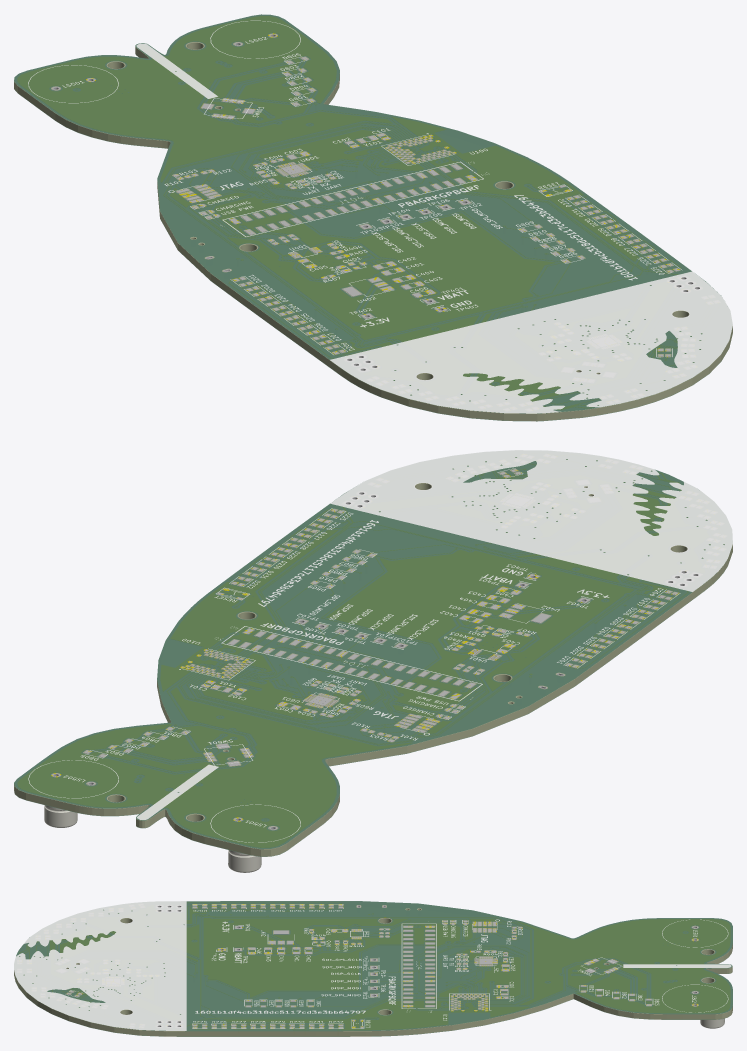
File: team-ides-dc27-da-bomb.glb
3 renders of one model, top to bottom at view 1: azimuth 30°, elevation 25°; view 2: azimuth 150°, elevation 25°; view 3: azimuth 270°, elevation 25°, orthographic. The views are drawn at different scales.
Parts seen in each view (by area): view 1: =>[0:1:1:9], =>[0:1:1:3]; view 2: =>[0:1:1:9], =>[0:1:1:3]; view 3: =>[0:1:1:9], =>[0:1:1:3].
Part boxes in pixels (box(x1,y1,x2,y2)): =>[0:1:1:9]: box(14, 14, 732, 421); =>[0:1:1:3]: box(18, 16, 699, 409); =>[0:1:1:9]: box(14, 450, 732, 856); =>[0:1:1:3]: box(18, 469, 698, 872); =>[0:1:1:9]: box(14, 901, 732, 1036); =>[0:1:1:3]: box(50, 904, 729, 1029).
Bounding box in the file's own units: 0.0791 × 0.00707 × 0.1845.
Materials: 2 (2 with a texture image).
